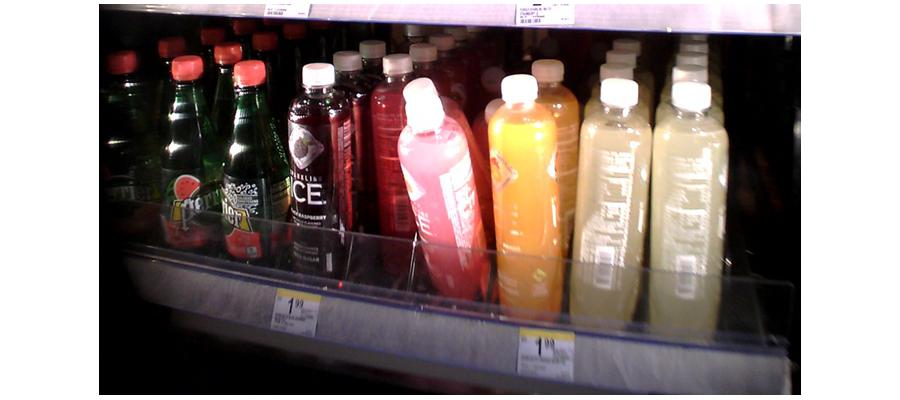bottle: (485, 74, 572, 322), (652, 82, 731, 341), (571, 75, 650, 334), (399, 80, 487, 305), (283, 62, 354, 290), (221, 60, 280, 274), (159, 58, 214, 267)
